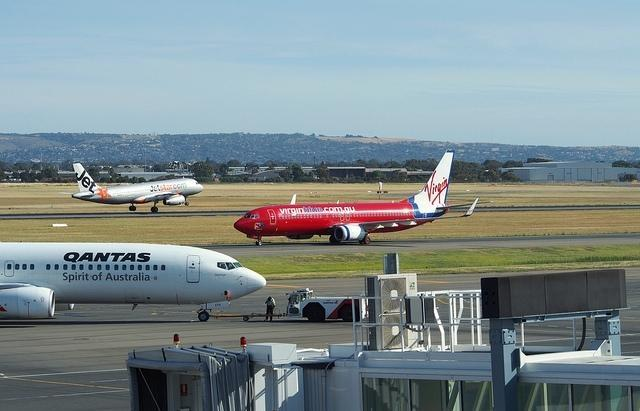truck: (284, 286, 354, 322)
